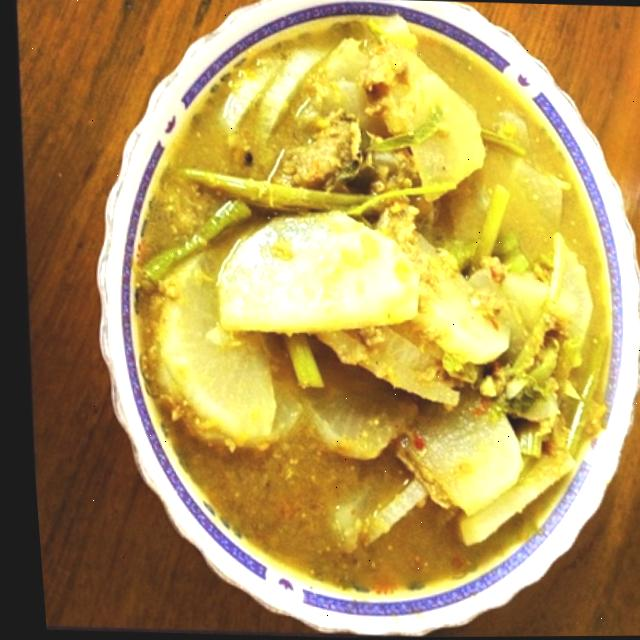汤锅炖物: (56, 0, 640, 640)
